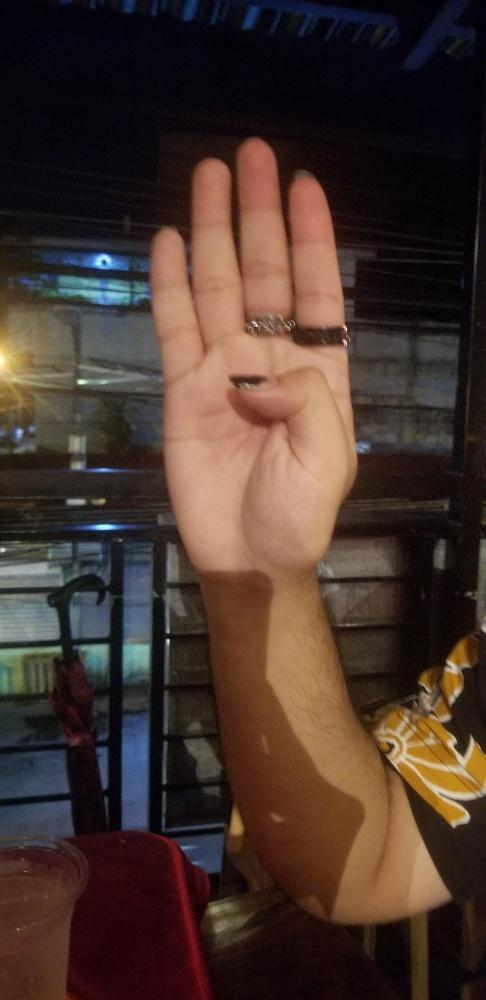b: (148, 137, 359, 562)
